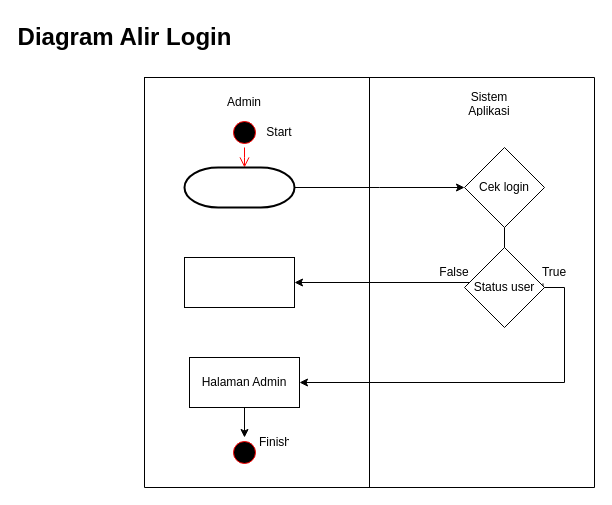
This 612x505 diagram has some shape labels left out. The shapes that lost their labels are listed below. From the top down, each one's centre as x and y in pixels, then its label:
At [239,187]: "Username dan password".
At [239,282]: "Halaman Login".
